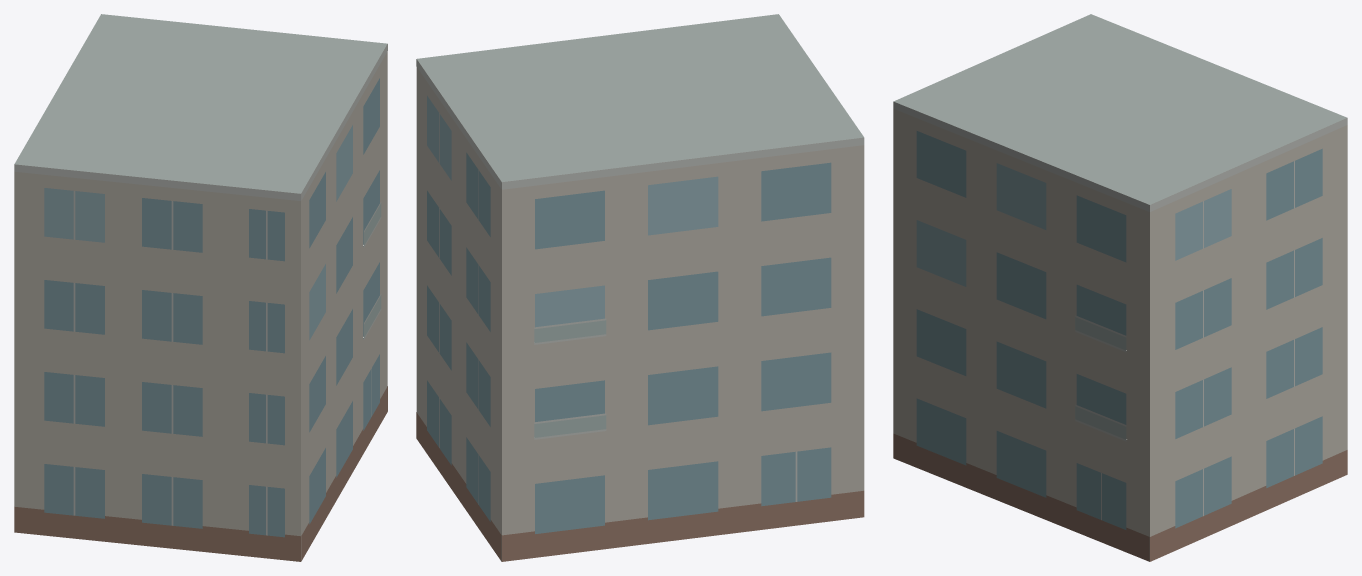
File: residential-b75fa461-5d46-4559-a1e2-68e2e9a3c968.glb
3 renders of one model, left to right at view 1: azimuth 30°, elevation 25°; view 2: azimuth 150°, elevation 25°; view 3: azimuth 270°, elevation 25°, orthographic. The views are drawn at different scales.
Parts seen in each view (by area): view 1: residential-b75fa461-5d46-4559-a1e2-68e2e9a3c968.tmp; view 2: residential-b75fa461-5d46-4559-a1e2-68e2e9a3c968.tmp; view 3: residential-b75fa461-5d46-4559-a1e2-68e2e9a3c968.tmp.
Boxes of the visible parts, x1=… form: residential-b75fa461-5d46-4559-a1e2-68e2e9a3c968.tmp: x1=14, y1=14, x2=387, y2=561; residential-b75fa461-5d46-4559-a1e2-68e2e9a3c968.tmp: x1=416, y1=14, x2=864, y2=561; residential-b75fa461-5d46-4559-a1e2-68e2e9a3c968.tmp: x1=893, y1=14, x2=1347, y2=561.
Size of the model in its own units: 14.01 by 12.2 by 14.08.
